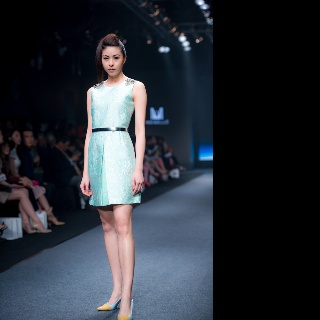without_mask: (100, 44, 125, 75)
